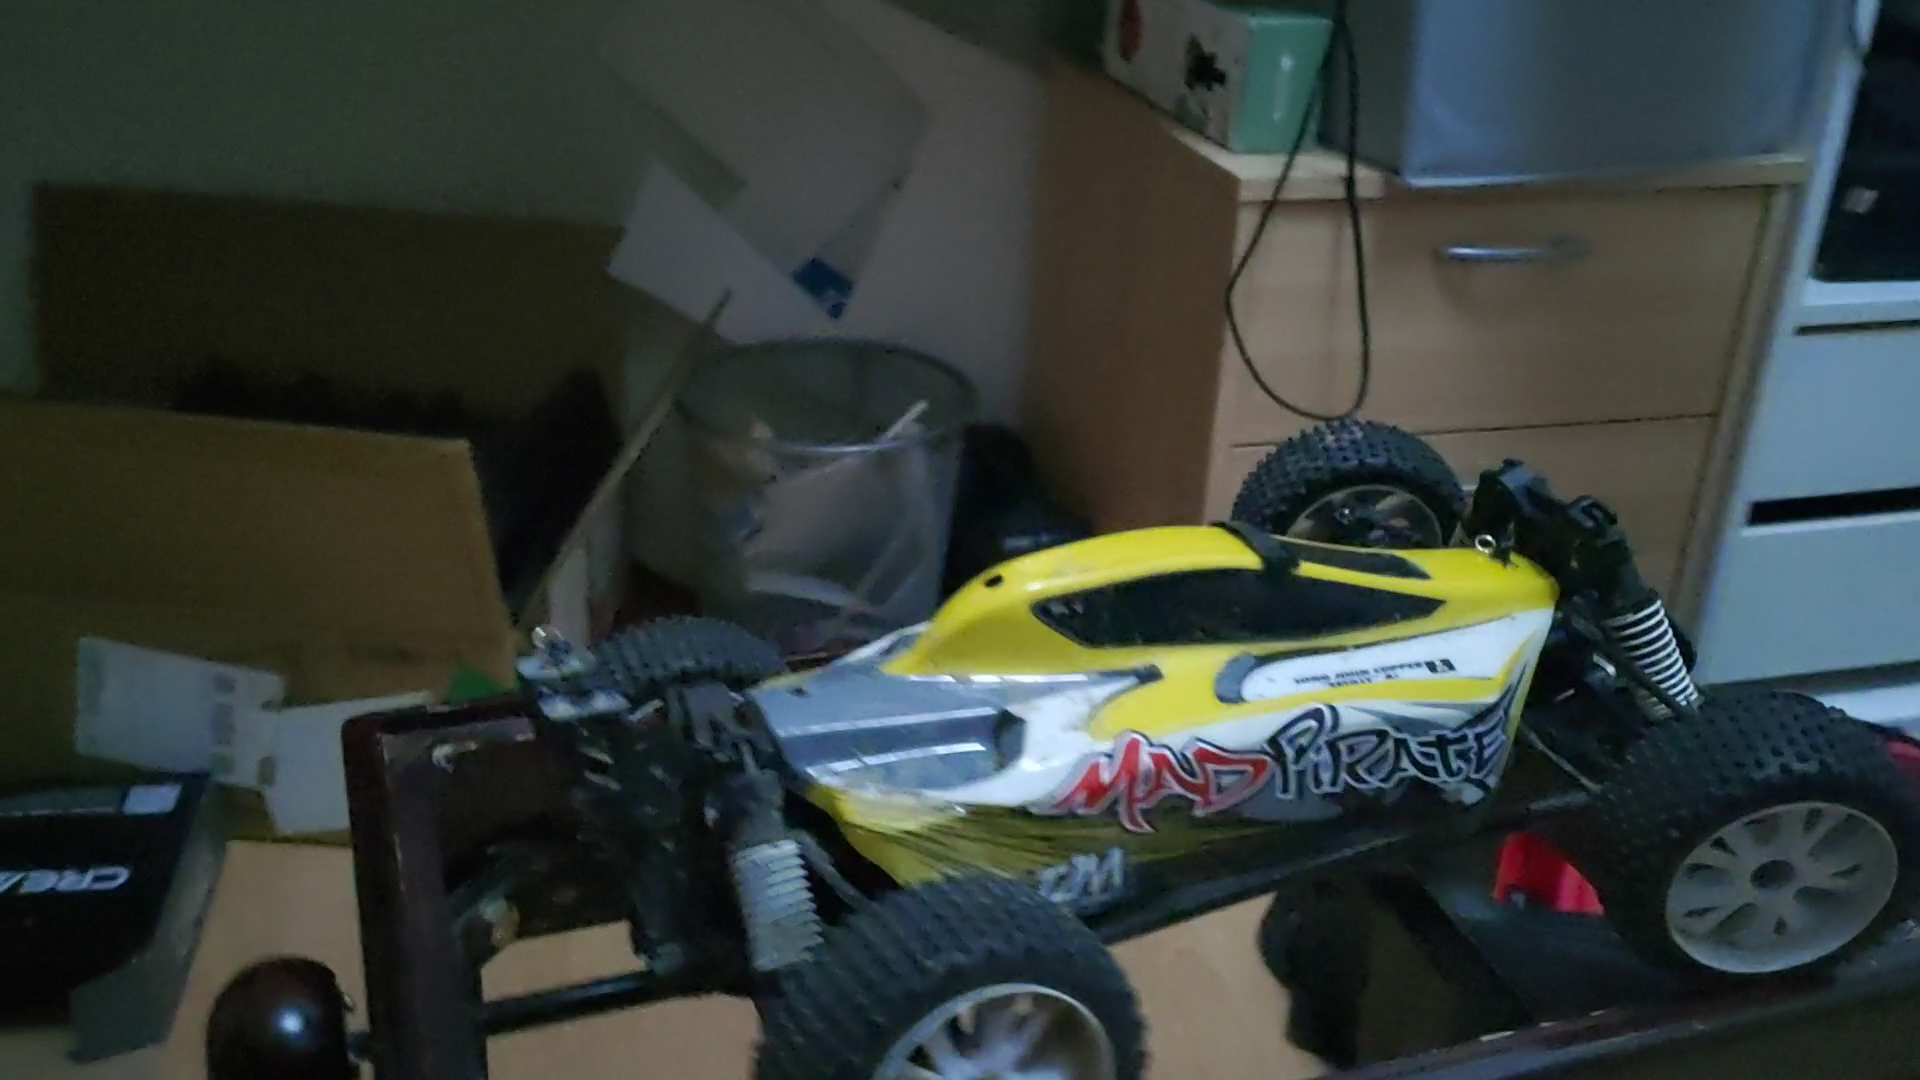buggy: (512, 413, 1905, 1080)
